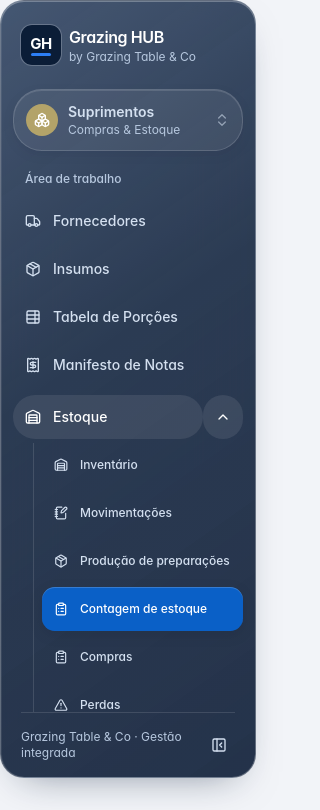
Test case: não aplica a preferência de outra pessoa e funciona com armazenamento bloqueado
This screenshot has width=320, height=810.
What coordinates should you click on to do the following:
click the button named "Recolher menu lateral"
I would click on:
 (219, 745)
Its box is [203, 729, 235, 761].
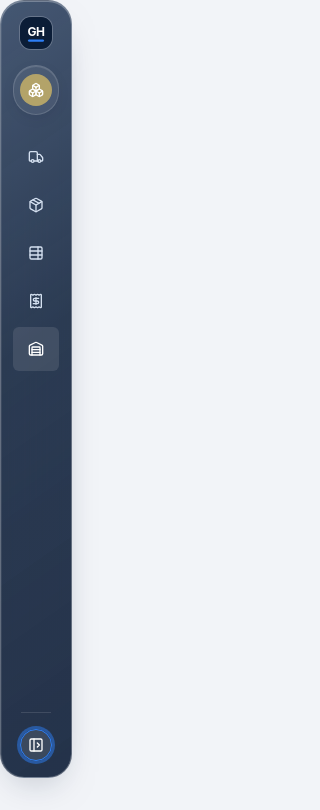
Check: the button named "Expandir menu lateral" is shown
What coordinates should you click on to do the following:
click the button named "Expandir menu lateral"
I would click on:
 (36, 745)
Its box is [20, 729, 52, 761].
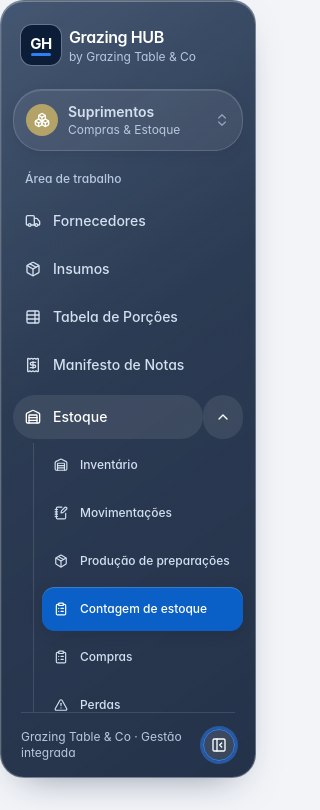
Check: the button named "Recolher menu lateral" is shown, box [203, 729, 235, 761]
